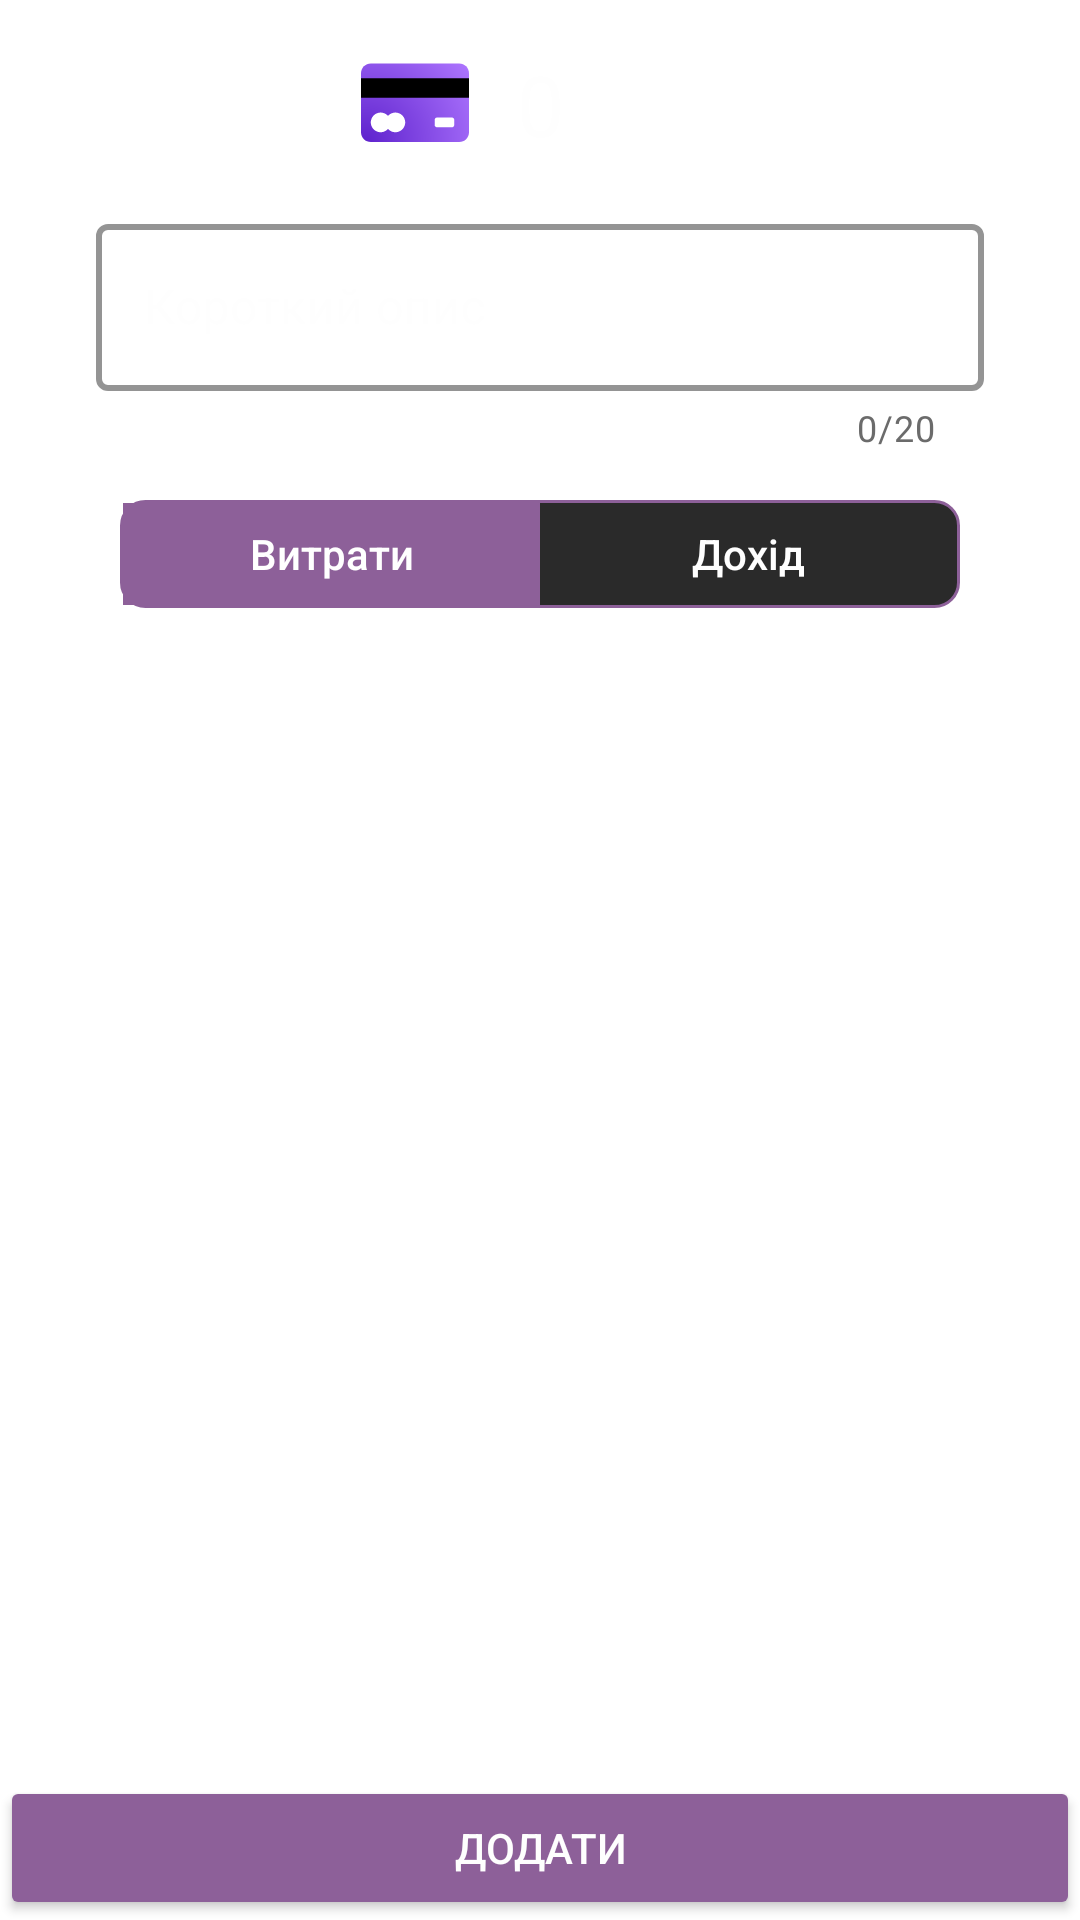

Named icons in this screenshot (1080 × 1920) and their centers, point (x, y):
violet credit card: point (415, 102)
